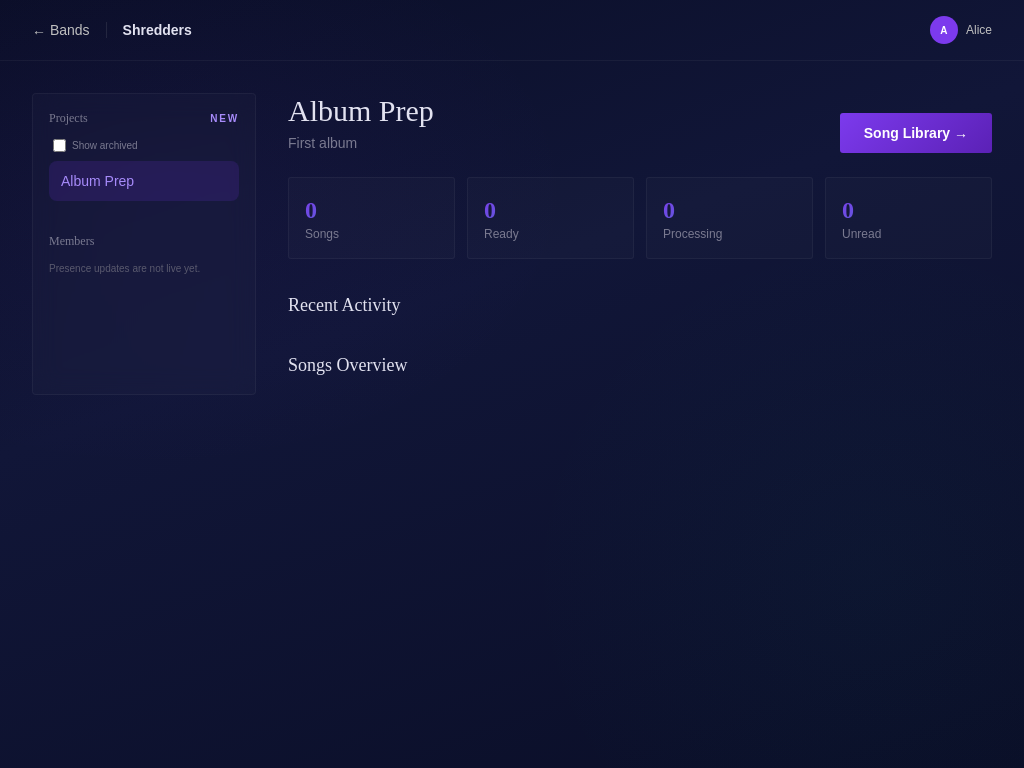
Test: ProjectHomePage — project creation modal › Save Project button is disabled while a save is in flight
Click the button with aria-label "create new project": (225, 118) [210,110,239,126]
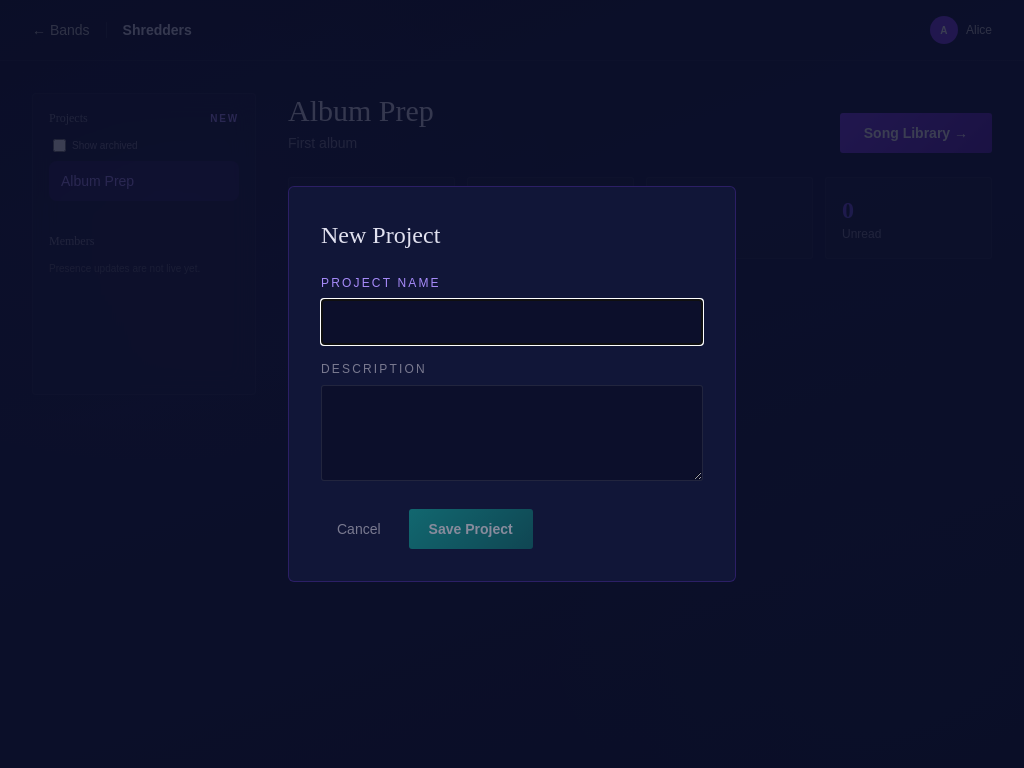
In the field labelled "Project Name": (512, 322) [321,299,703,345], type "Live Set"
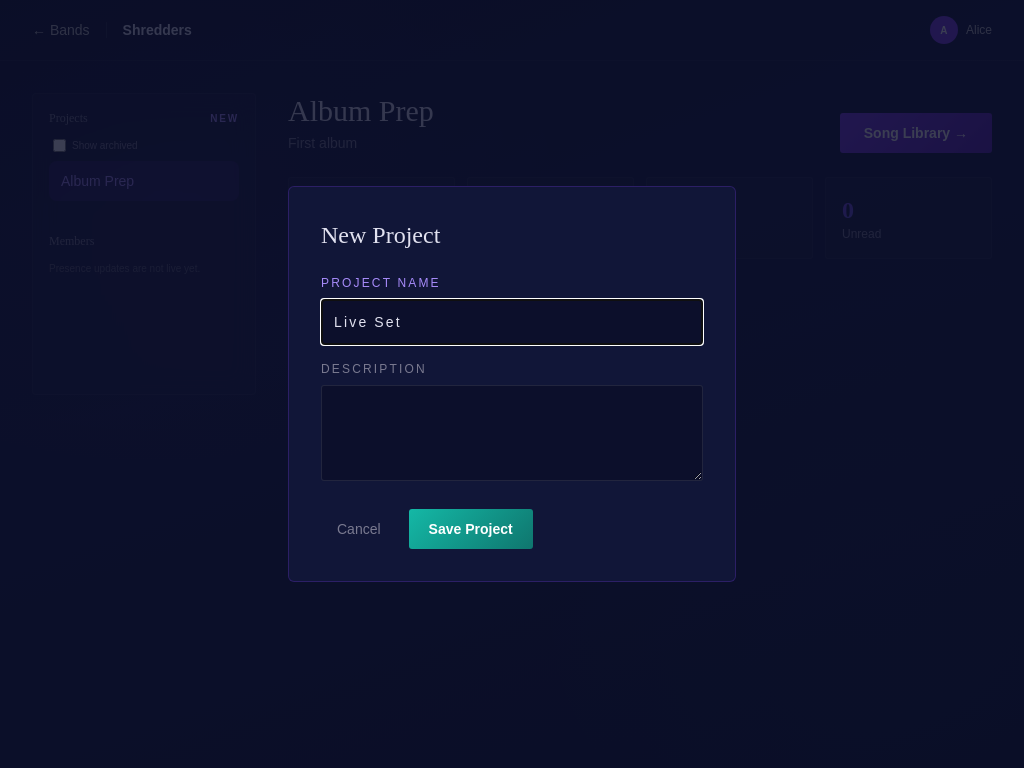
Click the button "Save Project": (471, 529) [409,509,533,549]
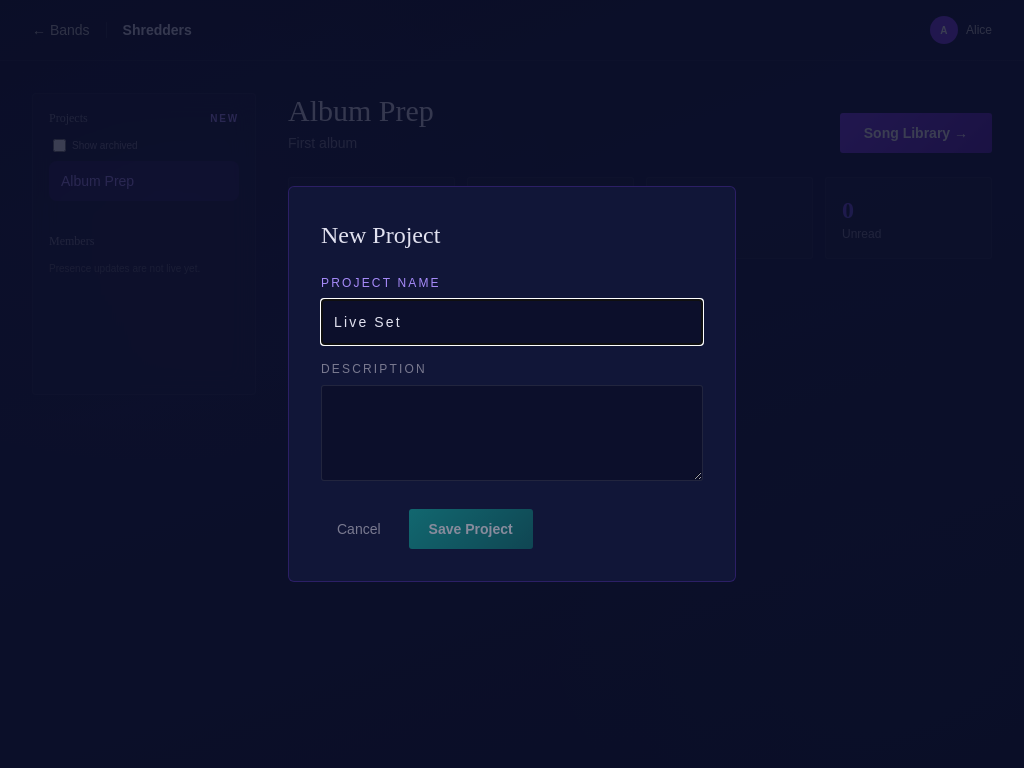
Check: the button "Save Project" is disabled, box [409,509,533,549]
